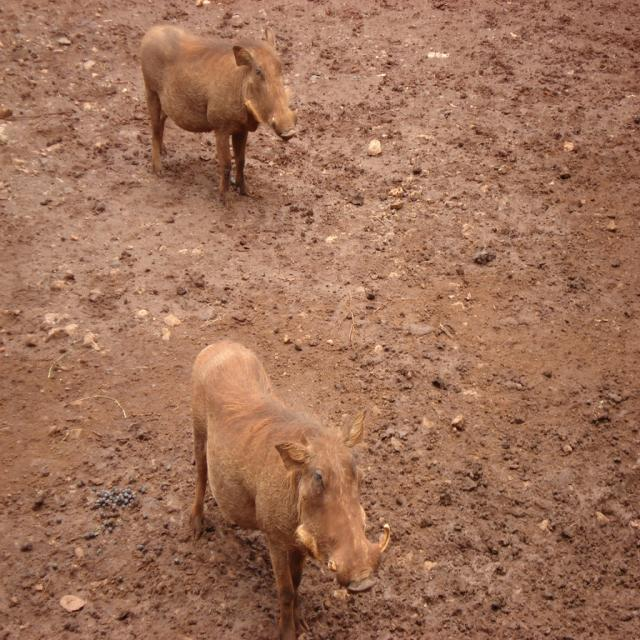Pig: (188, 341, 390, 640), (140, 25, 298, 208)
